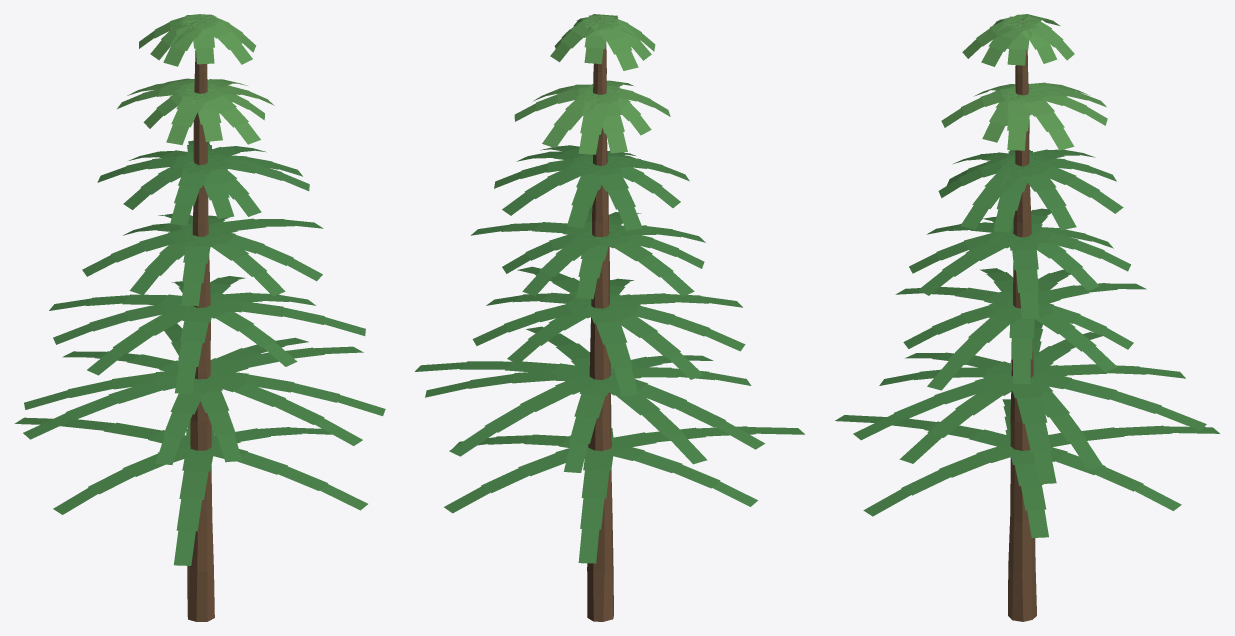
The model's file is pine_tree.glb.
3 renders of one model, left to right at view 1: azimuth 30°, elevation 25°; view 2: azimuth 150°, elevation 25°; view 3: azimuth 270°, elevation 25°, orthographic.
Visible parts, largest first — view 1: PineTree; view 2: PineTree; view 3: PineTree.
Boxes of the visible parts, box(x1,y1,x2,y2) form: PineTree: box(14, 14, 385, 621); PineTree: box(415, 14, 804, 621); PineTree: box(835, 14, 1219, 621).
Bounding box in the file's own units: 4.17 × 7 × 4.12.
